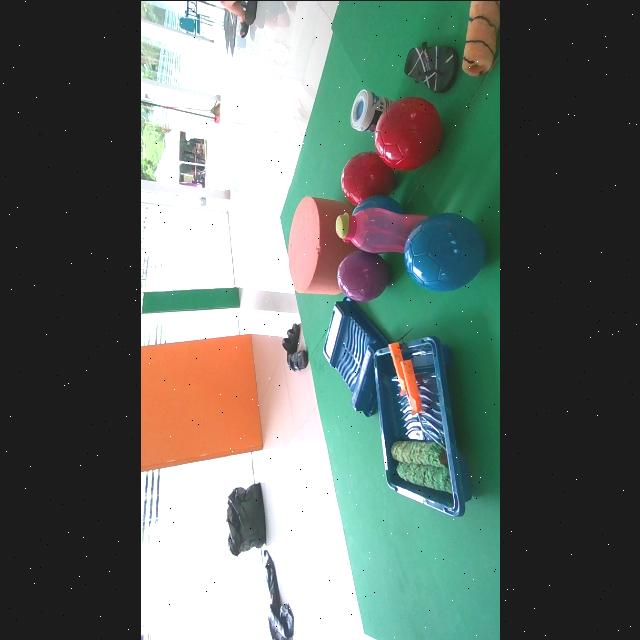B: (403, 212, 485, 290)
P: (336, 249, 388, 301)
R: (374, 96, 442, 170), (341, 151, 394, 205)
